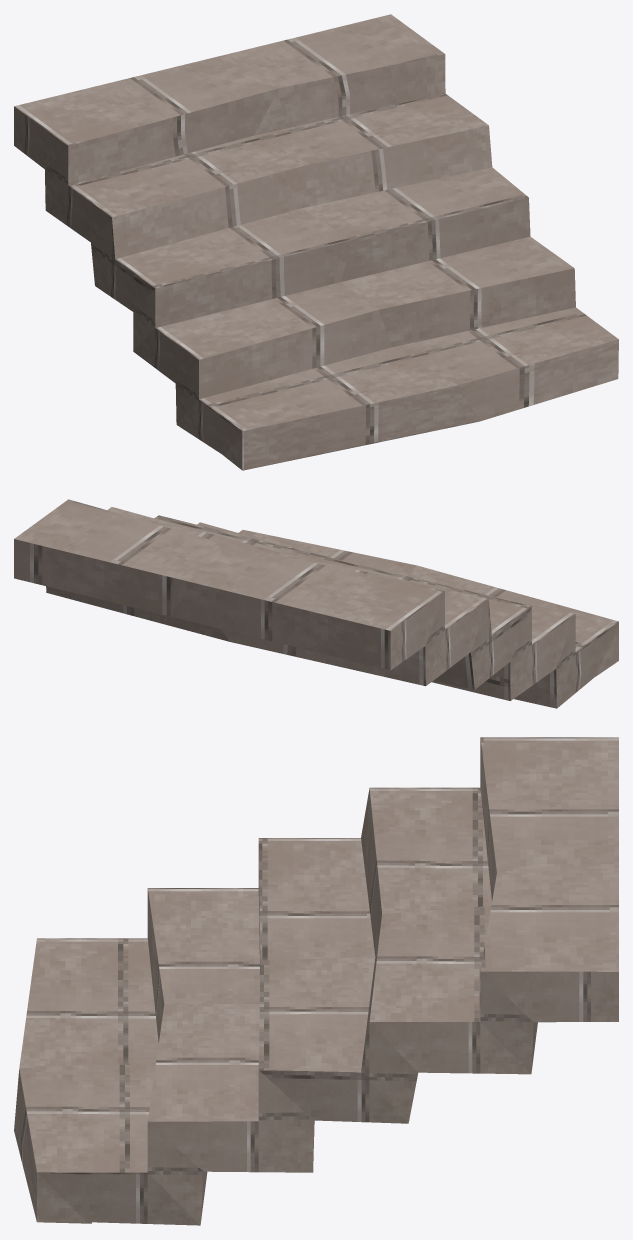
Rendered from strairs_stone.glb.
The picture shows the model from 3 angles, top to bottom: view 1: azimuth 30°, elevation 25°; view 2: azimuth 150°, elevation 25°; view 3: azimuth 270°, elevation 25°; orthographic projection. The views are drawn at different scales.
Parts seen in each view (by area): view 1: strairs_stone; view 2: strairs_stone; view 3: strairs_stone.
Boxes of the visible parts, x1,y1,x2,y2 form: strairs_stone: (14, 14, 618, 470); strairs_stone: (14, 499, 618, 708); strairs_stone: (14, 737, 618, 1225).
Bounding box in the file's own units: 2.02 × 1.01 × 2.18.
1 material, 1 textured.
